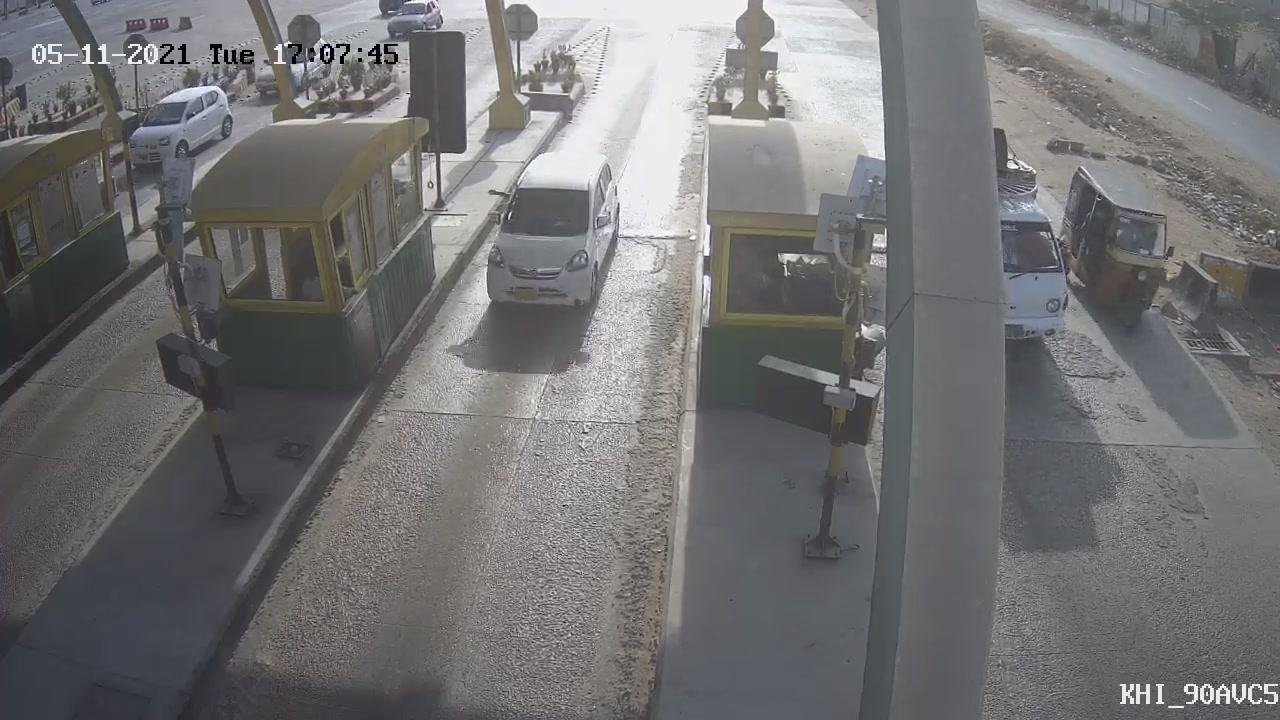F1: (465, 139, 635, 326)
